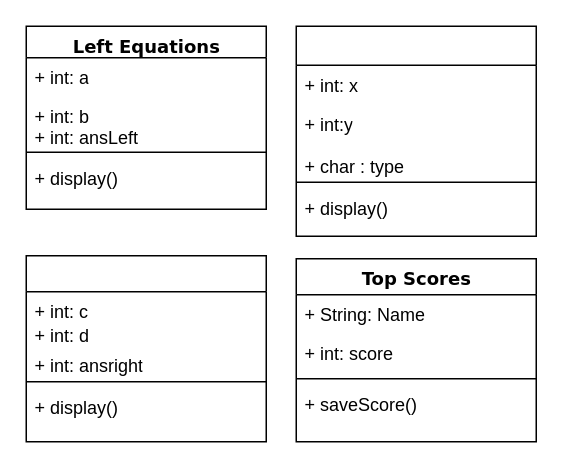
This 563x468 diagram has some shape labels left out. The shapes that lost their labels are listed below. From the top down, each one's box as (x1, y1, x2, y2) in pixels, then its label:
(295, 25, 536, 236): Cells (Collections)
(25, 254, 266, 442): Right Equations
